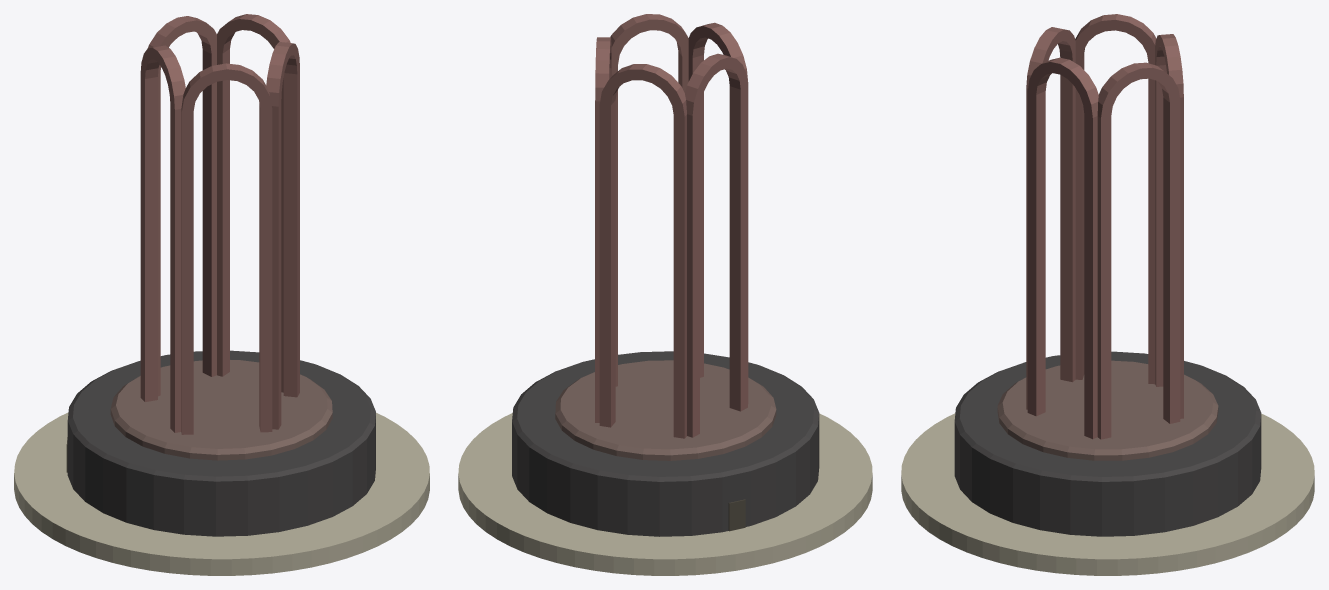
File: mausoleum-carol-park-far.glb
3 renders of one model, left to right at view 1: azimuth 30°, elevation 25°; view 2: azimuth 150°, elevation 25°; view 3: azimuth 270°, elevation 25°, orthographic.
Parts seen in each view (by area): view 1: mausoleum-carol-park-0-arch, mausoleum-carol-park-0-granite, mausoleum-carol-park-0-marble, mausoleum-carol-park-0-cap; view 2: mausoleum-carol-park-0-arch, mausoleum-carol-park-0-granite, mausoleum-carol-park-0-marble, mausoleum-carol-park-0-cap, mausoleum-carol-park-0-door; view 3: mausoleum-carol-park-0-arch, mausoleum-carol-park-0-granite, mausoleum-carol-park-0-marble, mausoleum-carol-park-0-cap.
Part boxes in pixels (box(x1,y1,x2,y2)): mausoleum-carol-park-0-arch: box(140, 14, 299, 434); mausoleum-carol-park-0-granite: box(67, 350, 375, 536); mausoleum-carol-park-0-marble: box(14, 412, 429, 575); mausoleum-carol-park-0-cap: box(110, 360, 332, 460); mausoleum-carol-park-0-arch: box(595, 14, 748, 438); mausoleum-carol-park-0-granite: box(512, 351, 819, 536); mausoleum-carol-park-0-marble: box(458, 413, 872, 575); mausoleum-carol-park-0-cap: box(555, 360, 776, 460); mausoleum-carol-park-0-door: box(728, 499, 745, 531); mausoleum-carol-park-0-arch: box(1026, 14, 1183, 439); mausoleum-carol-park-0-granite: box(954, 351, 1261, 536); mausoleum-carol-park-0-marble: box(901, 413, 1314, 575); mausoleum-carol-park-0-cap: box(997, 360, 1218, 460).
Size of the model in its own units: 40.35 by 48 by 40.35.
